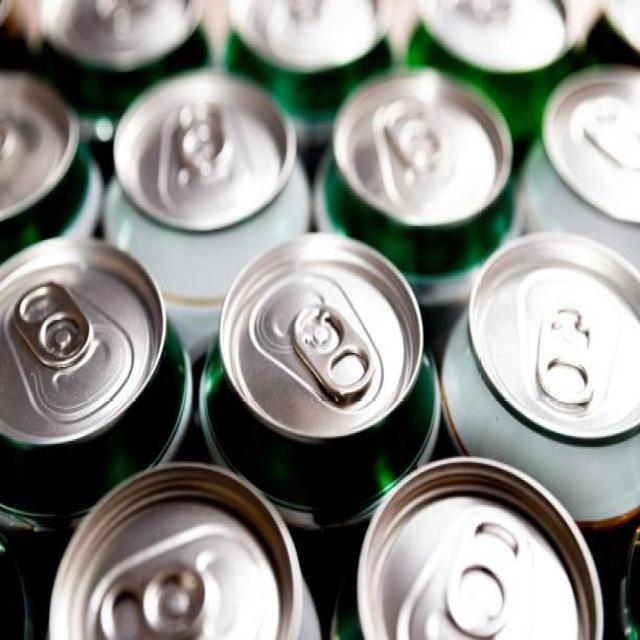pop tab: (444, 506, 534, 640), (291, 298, 375, 407), (9, 278, 94, 372), (536, 293, 602, 403)
